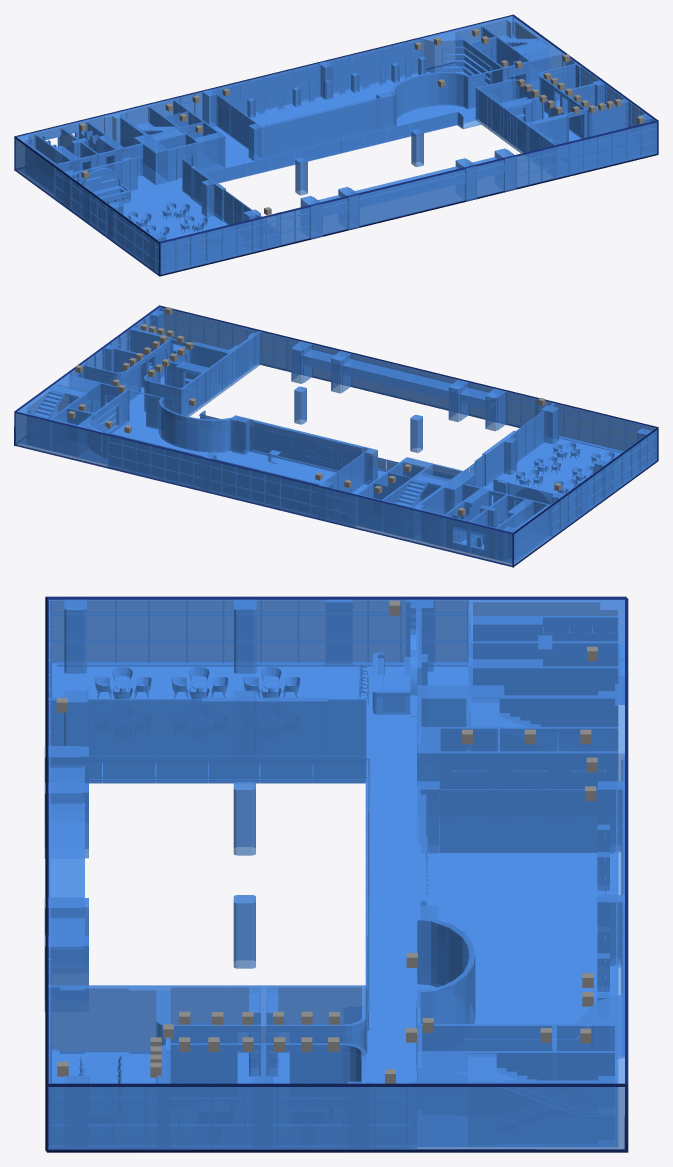
The picture shows the model from 3 angles, top to bottom: view 1: azimuth 30°, elevation 25°; view 2: azimuth 150°, elevation 25°; view 3: azimuth 270°, elevation 25°; orthographic projection. The views are drawn at different scales.
Visible parts, largest first — view 1: qiangti1, Rectangledimian, guangdai1; view 2: qiangti1, Rectangledimian, guangdai1; view 3: qiangti1, Rectangledimian, guangdai1.
Boxes of the visible parts, x1,y1,x2,y2 form: qiangti1: [15, 16, 657, 274]; Rectangledimian: [19, 63, 581, 239]; guangdai1: [14, 14, 658, 276]; qiangti1: [15, 307, 657, 565]; Rectangledimian: [19, 352, 621, 563]; guangdai1: [14, 305, 658, 567]; qiangti1: [44, 599, 624, 1149]; Rectangledimian: [52, 664, 617, 1146]; guangdai1: [45, 596, 628, 1152].
Size of the model in its own units: 51.71 by 26.15 by 3.74.
